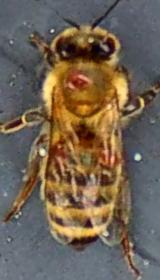varroa_mite: (90, 135, 129, 170), (40, 128, 74, 166), (58, 65, 94, 96)
